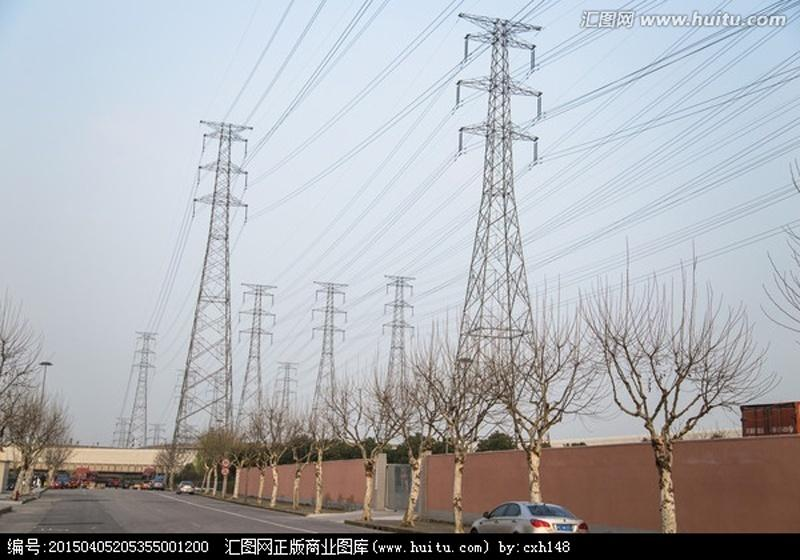power_tower: (445, 9, 580, 431), (179, 112, 249, 481), (130, 317, 161, 451)
